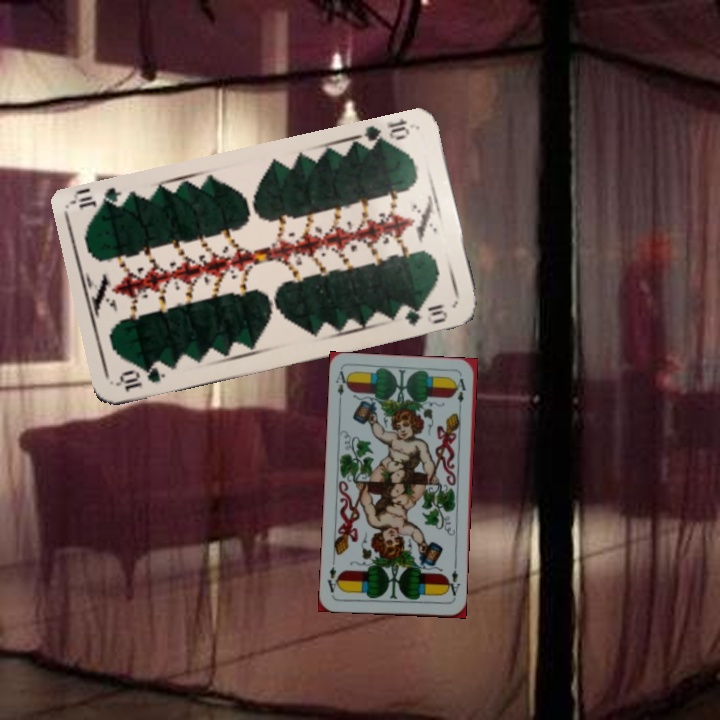EA: (443, 561, 463, 601), (331, 367, 351, 407)
G10: (356, 115, 413, 152), (114, 363, 168, 395)
